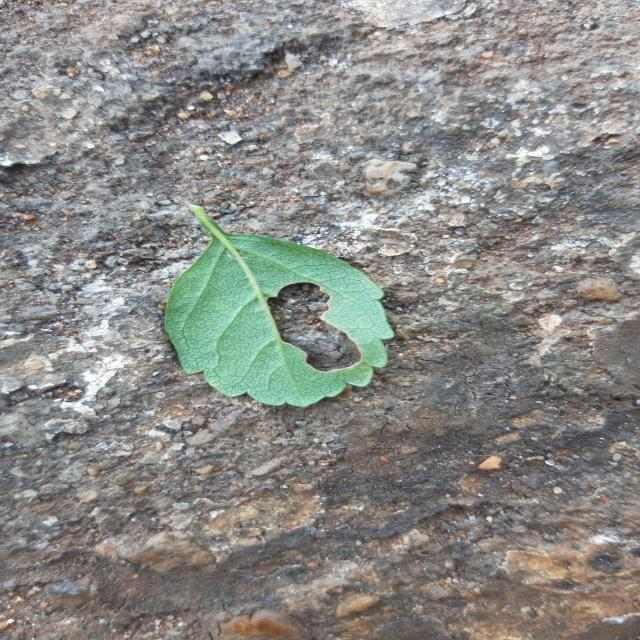defectedtecoma: (220, 235, 344, 406)
tecoma: (164, 205, 393, 406)
